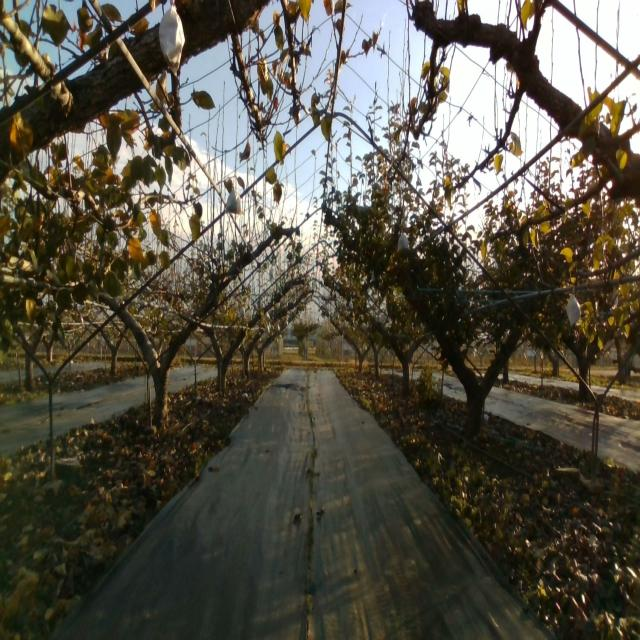pearbags: (158, 1, 185, 78), (566, 294, 581, 326), (225, 188, 242, 215), (398, 233, 410, 254)
